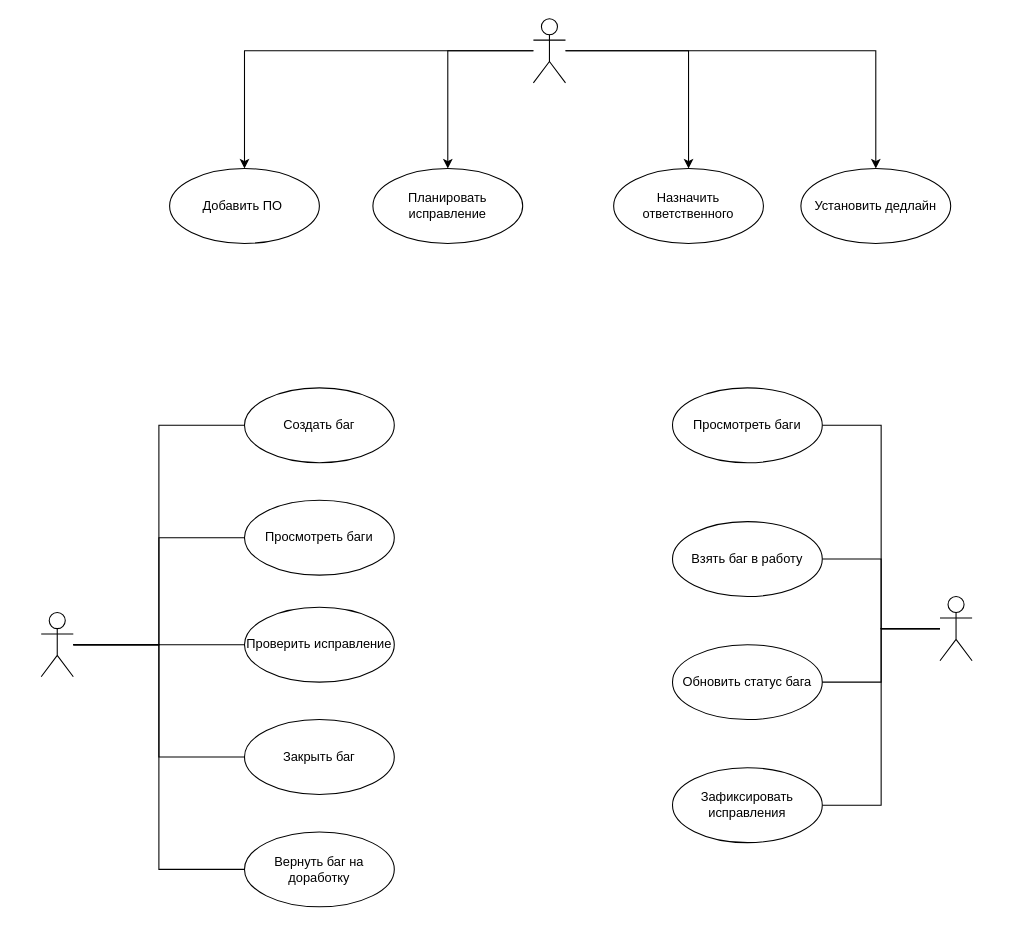
Some shapes in this 1012 by 926 pixel diagram are drawn without their labels. Each missing label, with the box of its shape:
Разработчик: (939, 595, 972, 661)
Руководитель проекта: (532, 18, 565, 83)
Тестировщик: (40, 612, 73, 677)
